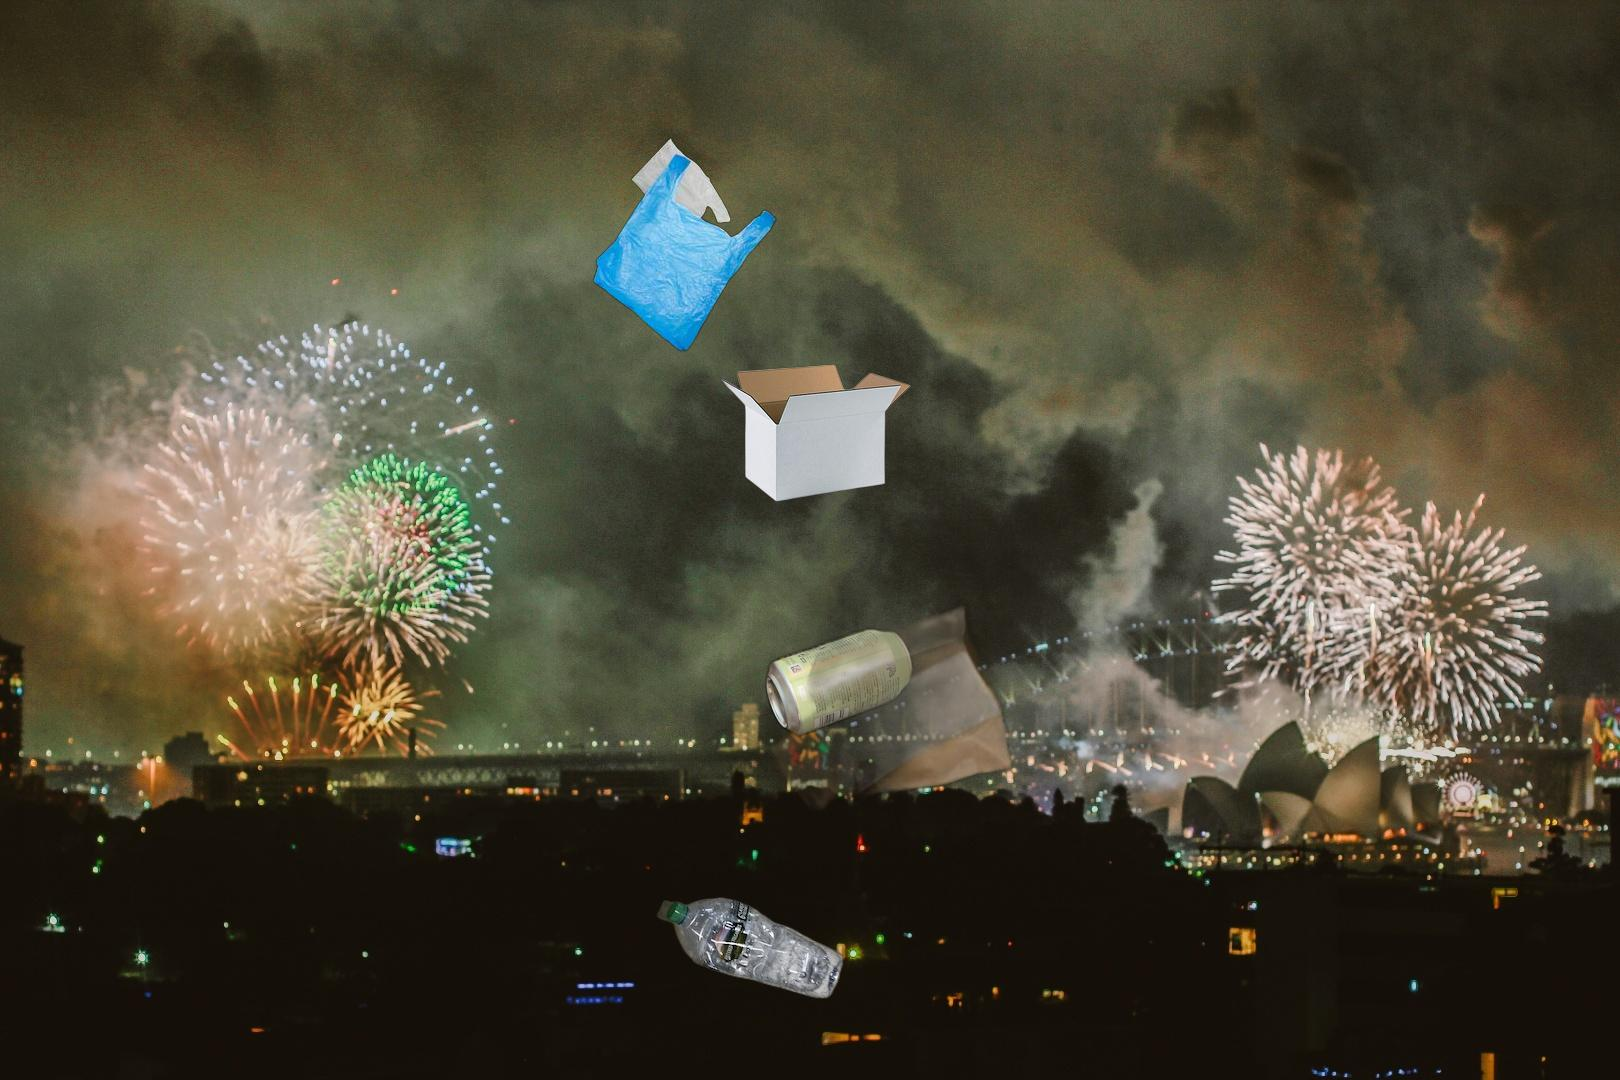metal-cans: (761, 622, 917, 742)
paper-bag: (730, 568, 1028, 868)
plastic-bag: (589, 137, 777, 354)
plastic-bottles: (652, 896, 849, 1002)
trashbox-cardboard: (718, 360, 914, 505)
